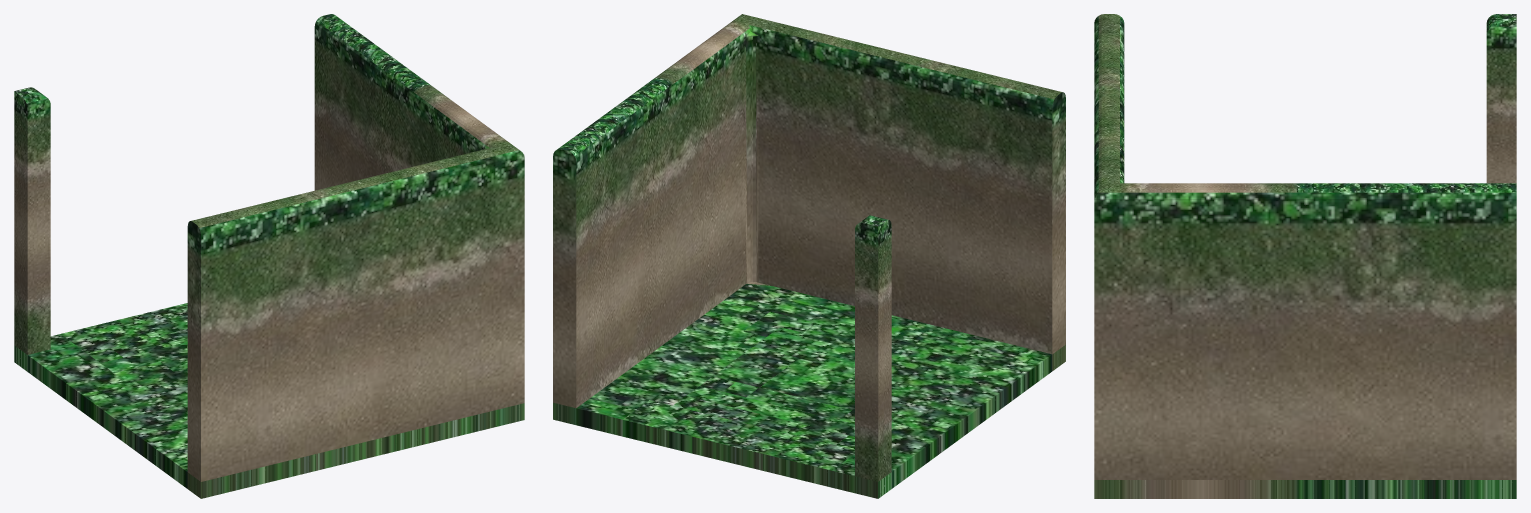
The model's file is Bend.obj.
3 renders of one model, left to right at view 1: azimuth 30°, elevation 25°; view 2: azimuth 150°, elevation 25°; view 3: azimuth 270°, elevation 25°, orthographic. The views are drawn at different scales.
Parts seen in each view (by area): view 1: Plane.006_Plane.007; view 2: Plane.006_Plane.007; view 3: Plane.006_Plane.007.
Part boxes in pixels (bbox=[...]): Plane.006_Plane.007: bbox=[14, 14, 524, 498]; Plane.006_Plane.007: bbox=[553, 14, 1065, 498]; Plane.006_Plane.007: bbox=[1094, 14, 1516, 498].
Bounding box in the file's own units: 2 × 1.6 × 2.
Materials: 1 (1 with a texture image).
